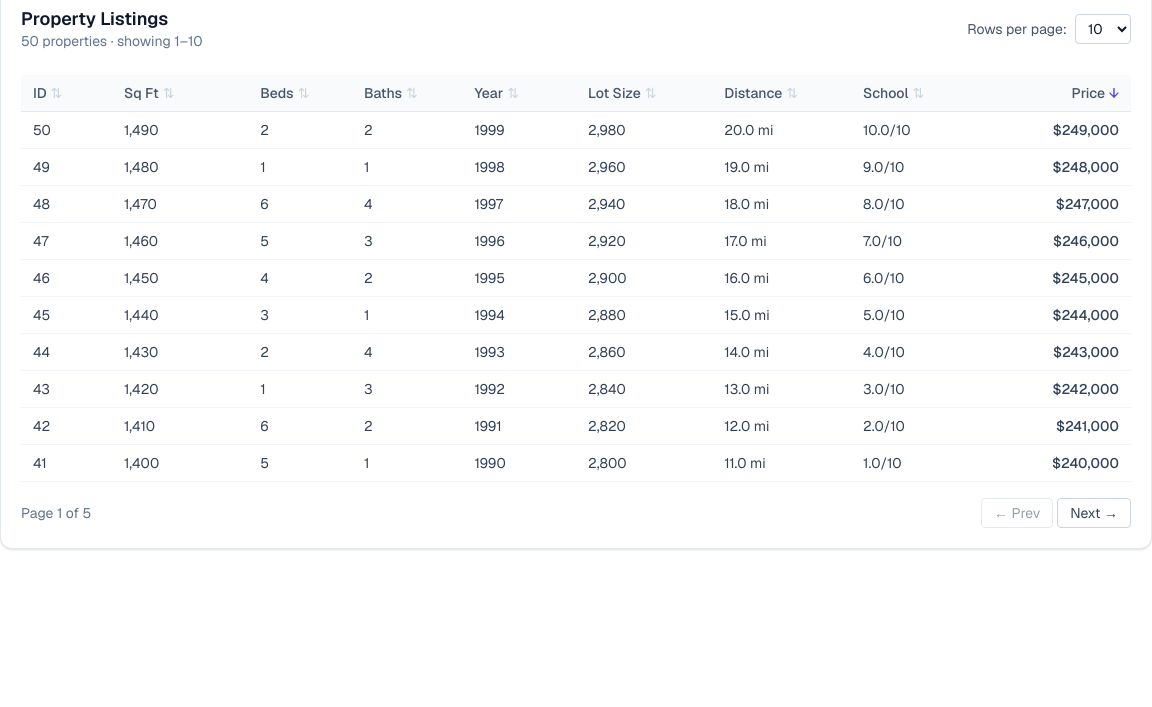
Test: DataTable › pagination › resets to page 1 when page size changes
Go to page 3
Click the button with aria-label "next page" at (1094, 512), box x1=1057 y1=498 x2=1131 y2=528
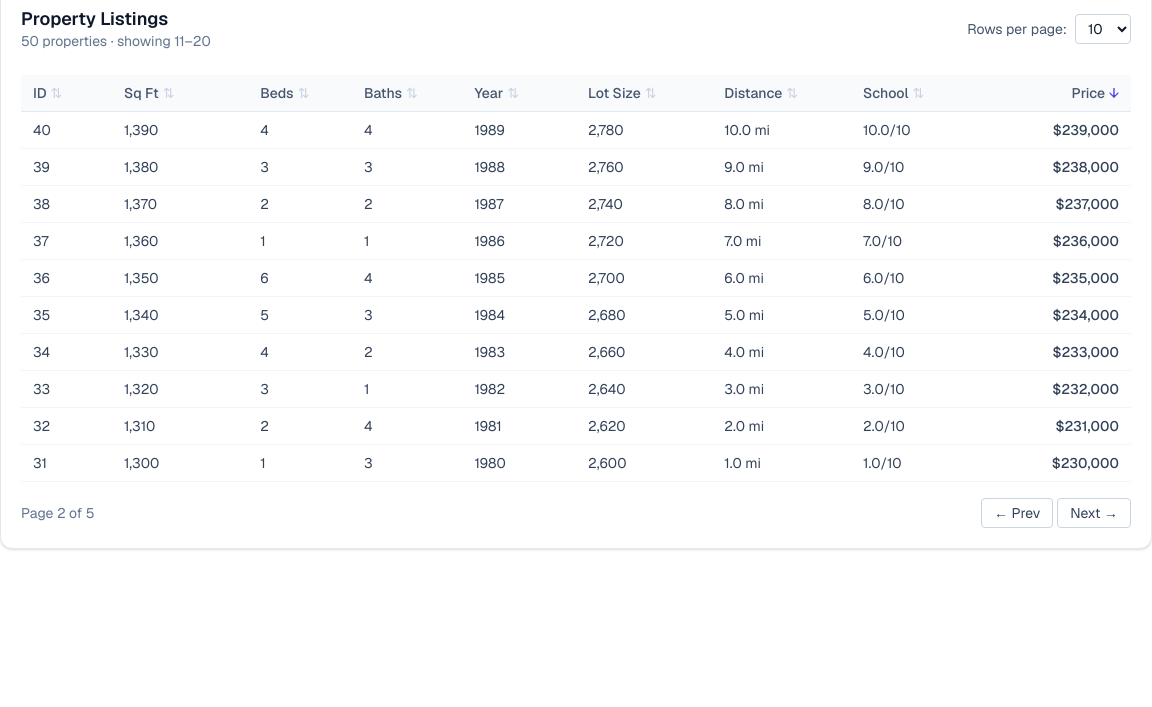
Click the button with aria-label "next page" at (1094, 512), box x1=1057 y1=498 x2=1131 y2=528
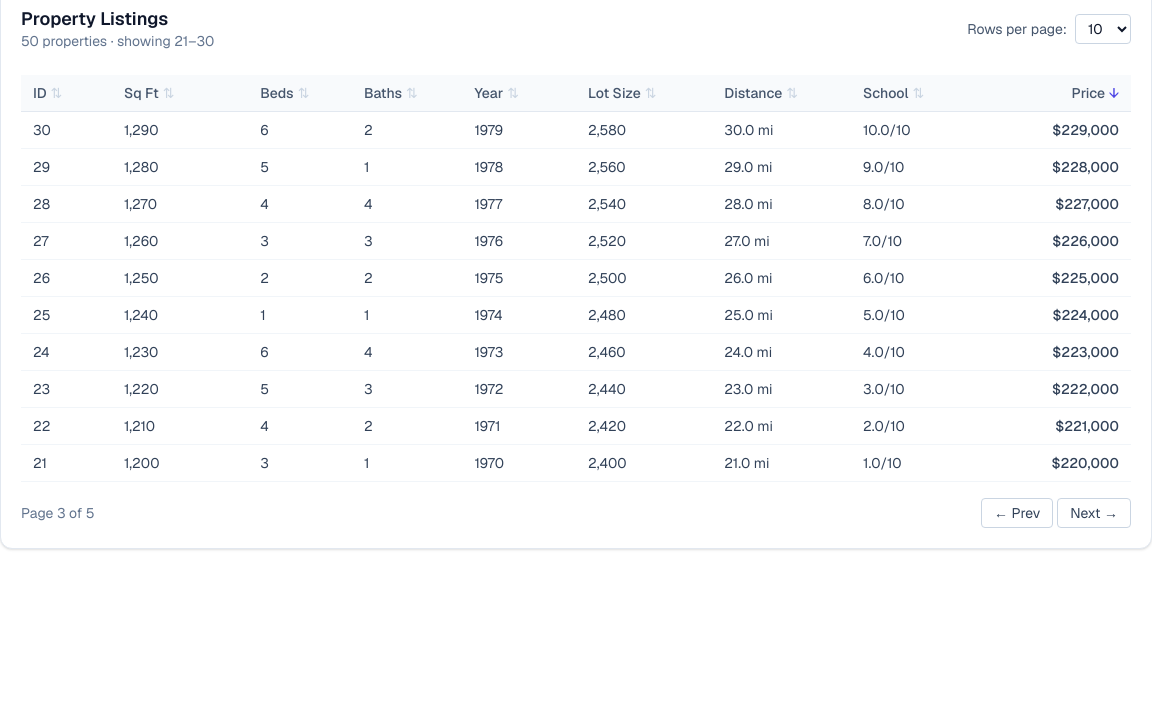
Expected: the text "Page 3 of 5" is shown, x1=21 y1=502 x2=94 y2=522
Change page size
Select "25" in the dropdown labelled "Rows per page:" at (1103, 29), box x1=1075 y1=14 x2=1131 y2=44
(page scrolled)
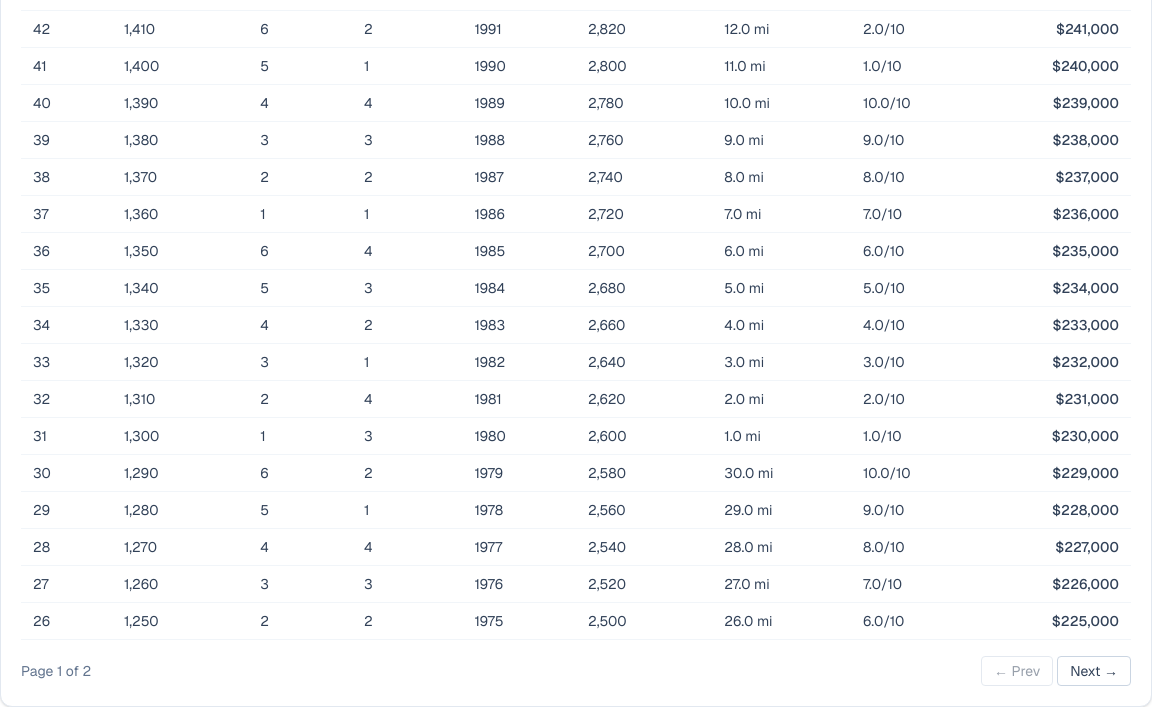
Expected: the text "Page 1 of 2" is shown, x1=21 y1=660 x2=91 y2=680
